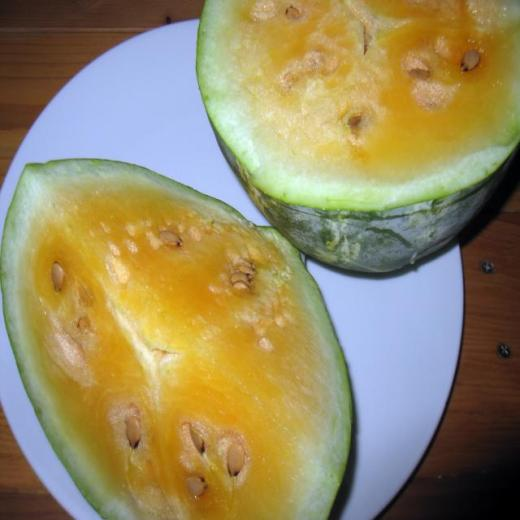Cherry: (0, 158, 353, 520), (196, 0, 520, 272)
